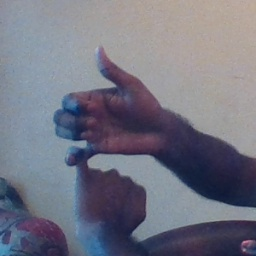S: (44, 37, 174, 221)
